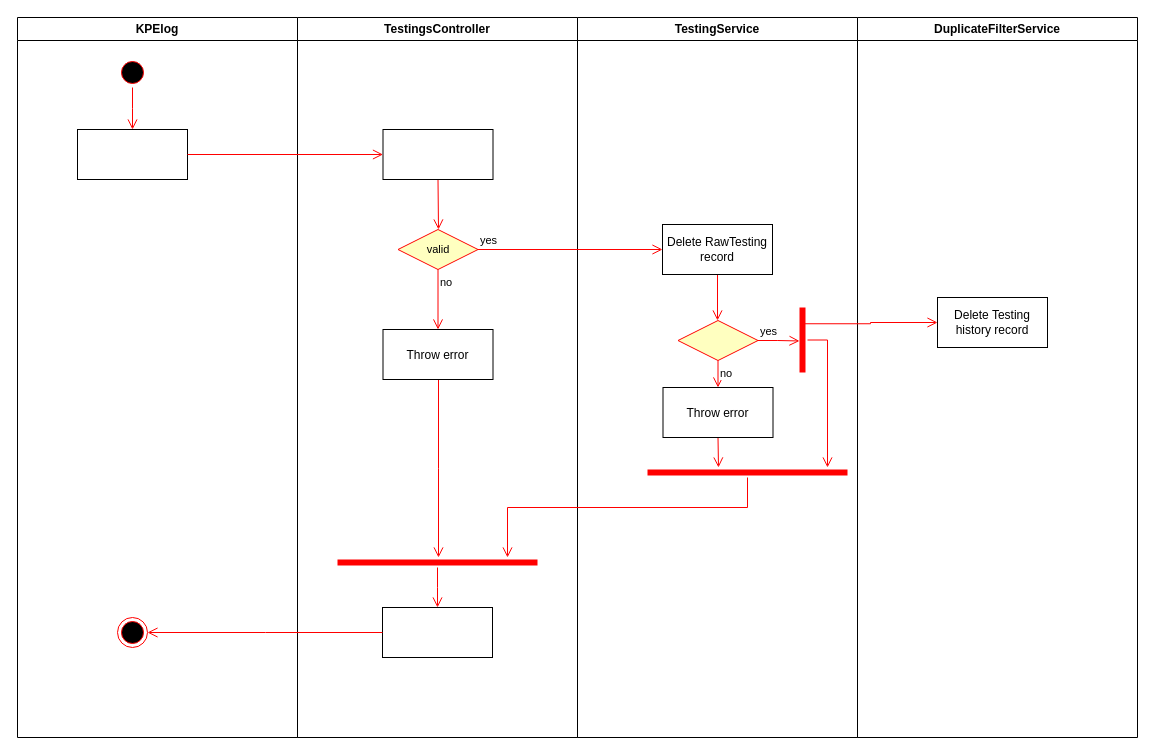
The diagram is 1155 pixels wide and 755 high, and some of its shapes have lost their labels. Here are the shapes that lost their labels. From the top down, the centre of each, then its label:
point (132, 154): Send delete request
point (437, 154): Verify credential
point (717, 340): success
point (437, 632): Response result
